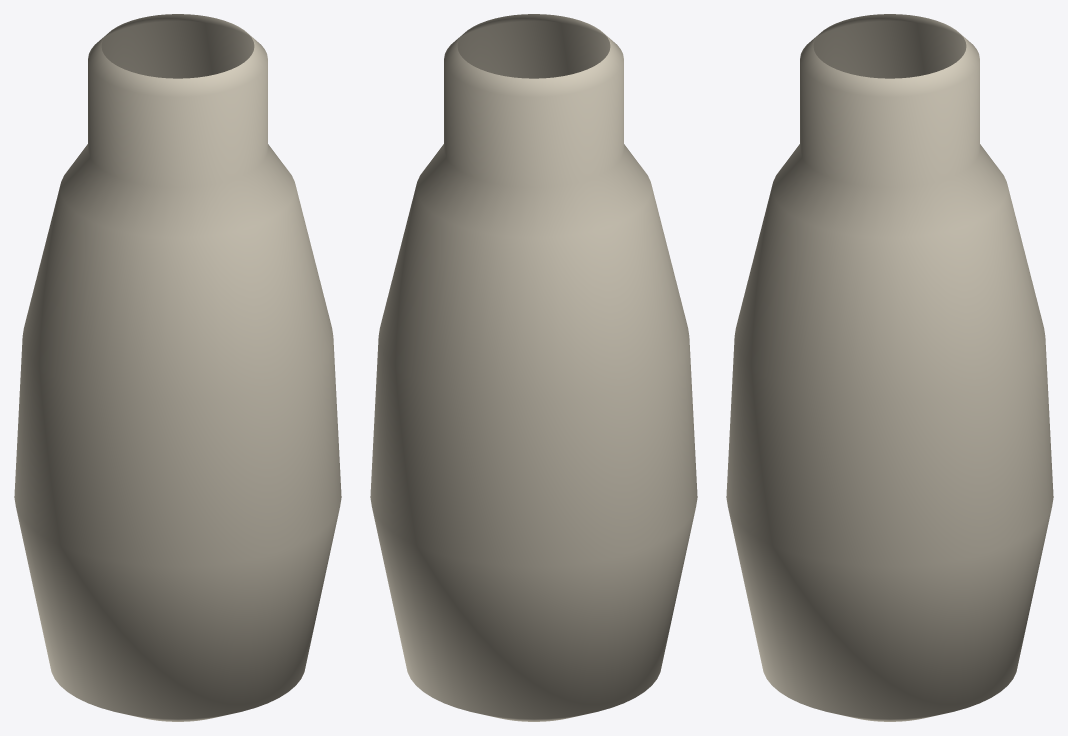
Rendered from jarra-terra.glb.
3 views of the same model, side by side, from view 1: azimuth 30°, elevation 25°; view 2: azimuth 150°, elevation 25°; view 3: azimuth 270°, elevation 25° (orthographic).
Visible parts, largest first — view 1: Corpo cerâmico; view 2: Corpo cerâmico; view 3: Corpo cerâmico.
Boxes of the visible parts, box(x1,y1,x2,y2) form: Corpo cerâmico: box(14, 14, 341, 721); Corpo cerâmico: box(370, 14, 697, 721); Corpo cerâmico: box(726, 14, 1053, 721).
Bounding box in the file's own units: 0.1104 × 0.24 × 0.1104.
